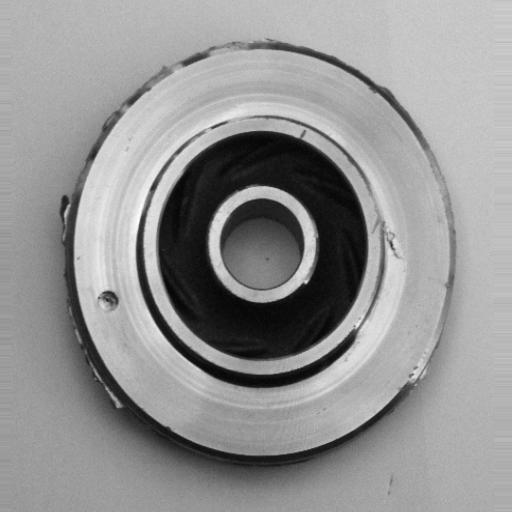casting_with_burr: (54, 36, 455, 467)
crack: (365, 208, 409, 270)
pit: (88, 281, 130, 322)
scratch: (205, 102, 279, 136), (347, 303, 381, 356)
